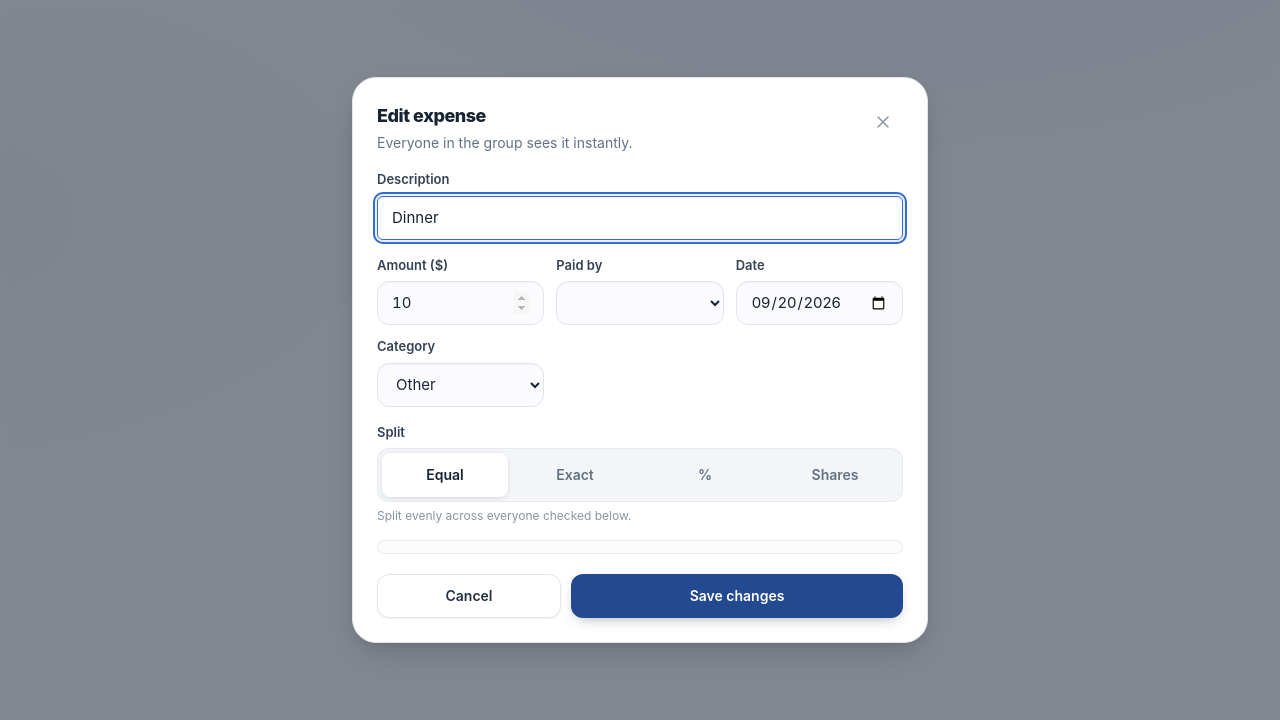
Test case: ExpenseModal › requires a payer
Click the button "Save changes".
click(737, 596)  # box [571,574,903,618]
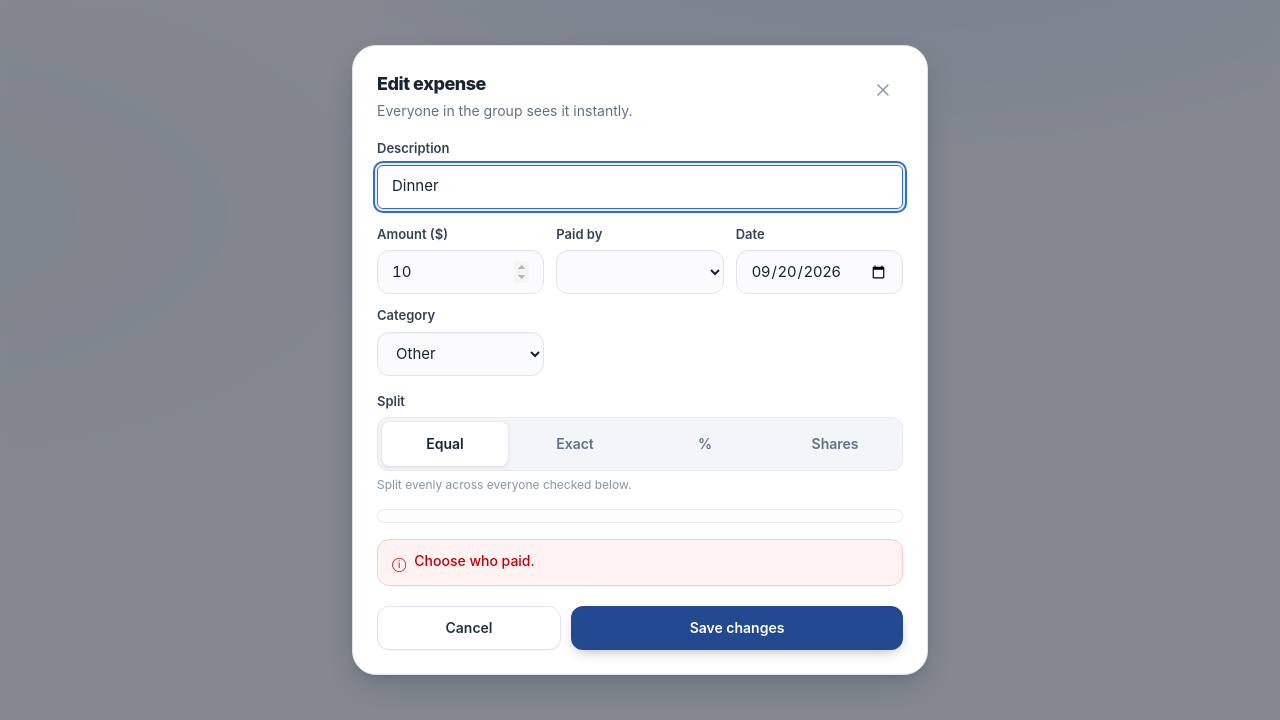
expect the message shows "who paid": met, box [414,552,535,569]
